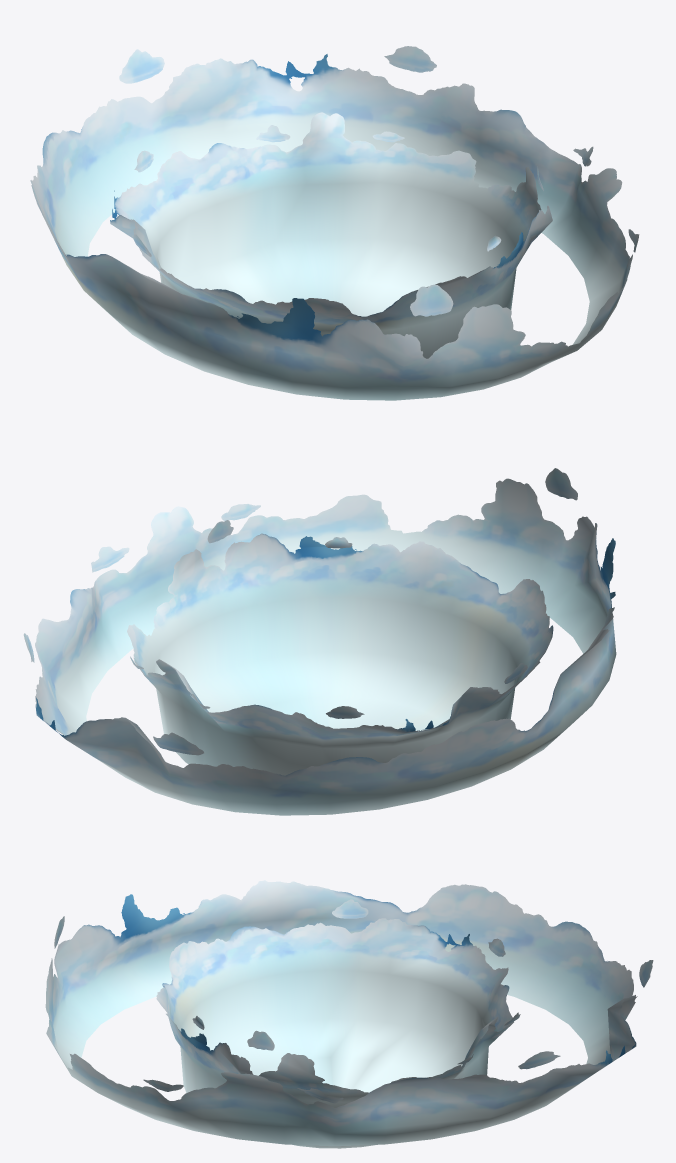
The model's file is Cloudmesh.fbx.
3 renders of one model, top to bottom at view 1: azimuth 30°, elevation 25°; view 2: azimuth 150°, elevation 25°; view 3: azimuth 270°, elevation 25°, orthographic. The views are drawn at different scales.
Parts seen in each view (by area): view 1: Cylinder.001; view 2: Cylinder.001; view 3: Cylinder.001.
Boxes of the visible parts, x1,y1,x2,y2 form: Cylinder.001: [30, 46, 639, 400]; Cylinder.001: [23, 468, 616, 815]; Cylinder.001: [45, 880, 653, 1148].
Size of the model in its own units: 136852 by 50446 by 167428.
Materials: 1 (1 with a texture image).
